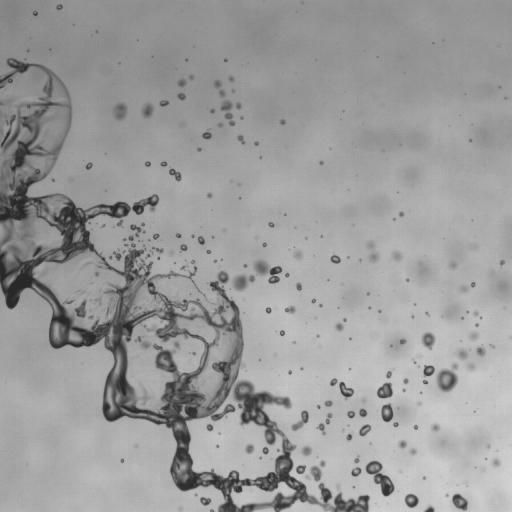droplet: (253, 259, 282, 283), (436, 363, 458, 392), (232, 274, 255, 291), (452, 493, 467, 511), (377, 382, 393, 398), (421, 332, 435, 349), (381, 403, 393, 422), (423, 365, 434, 384), (114, 103, 126, 120), (404, 493, 418, 507), (142, 103, 153, 117), (91, 294, 103, 306), (455, 348, 467, 360), (359, 424, 371, 436), (330, 254, 340, 263), (476, 345, 485, 355), (301, 446, 311, 455), (351, 467, 361, 476), (200, 497, 211, 505), (202, 130, 211, 139), (392, 251, 401, 260), (245, 444, 254, 453), (293, 250, 302, 258), (460, 285, 469, 293), (359, 408, 367, 417), (285, 306, 295, 313), (423, 505, 434, 511), (335, 323, 343, 331), (470, 332, 478, 340), (431, 423, 439, 431), (398, 440, 406, 448), (492, 458, 500, 466), (237, 135, 244, 144), (178, 79, 185, 87), (214, 80, 221, 88), (177, 93, 185, 100), (0, 100, 9, 106), (159, 100, 168, 106), (180, 244, 187, 251), (467, 363, 474, 370), (347, 411, 354, 418), (206, 424, 213, 431), (198, 236, 204, 244), (324, 400, 332, 406), (219, 90, 225, 97), (86, 162, 92, 169), (449, 262, 456, 268), (346, 433, 352, 440), (262, 447, 268, 454), (410, 448, 416, 454), (236, 102, 241, 109), (160, 161, 167, 166), (296, 283, 301, 290), (386, 371, 391, 378), (354, 456, 359, 463), (56, 4, 62, 9), (268, 222, 274, 227), (42, 269, 48, 274), (94, 270, 99, 276), (266, 307, 271, 313), (400, 339, 406, 344), (280, 119, 285, 124), (145, 161, 150, 166), (153, 234, 158, 239), (473, 311, 478, 316), (403, 378, 408, 383), (393, 422, 398, 427), (181, 265, 187, 269), (229, 76, 233, 81), (207, 193, 212, 197), (399, 211, 403, 216), (176, 233, 181, 237), (500, 260, 504, 265), (471, 282, 475, 287), (280, 330, 284, 335), (190, 351, 195, 355), (189, 75, 193, 79), (218, 123, 222, 127), (254, 141, 258, 145), (263, 242, 266, 247), (414, 424, 417, 429), (33, 11, 36, 15), (211, 109, 214, 113), (197, 148, 201, 151), (472, 245, 476, 248), (285, 273, 288, 277), (311, 299, 315, 302), (207, 250, 210, 253), (191, 260, 194, 263), (406, 278, 409, 281), (343, 318, 346, 321), (336, 485, 339, 488), (320, 161, 322, 164), (244, 264, 246, 267), (378, 310, 381, 312), (426, 312, 428, 315), (475, 324, 478, 326), (490, 345, 493, 347), (288, 371, 291, 373), (402, 389, 405, 391), (362, 399, 365, 401), (418, 402, 420, 405), (317, 405, 319, 408), (445, 494, 448, 496), (102, 224, 104, 226), (191, 235, 193, 237), (171, 251, 173, 253), (214, 260, 216, 262), (367, 293, 369, 295), (319, 304, 321, 306), (413, 360, 415, 362), (487, 445, 489, 447), (121, 459, 123, 461)
ligament: (0, 58, 368, 511), (365, 460, 394, 496), (330, 378, 353, 399), (220, 100, 235, 125), (291, 410, 308, 430), (317, 413, 332, 434), (366, 241, 378, 262), (146, 247, 163, 258), (169, 168, 181, 181)
